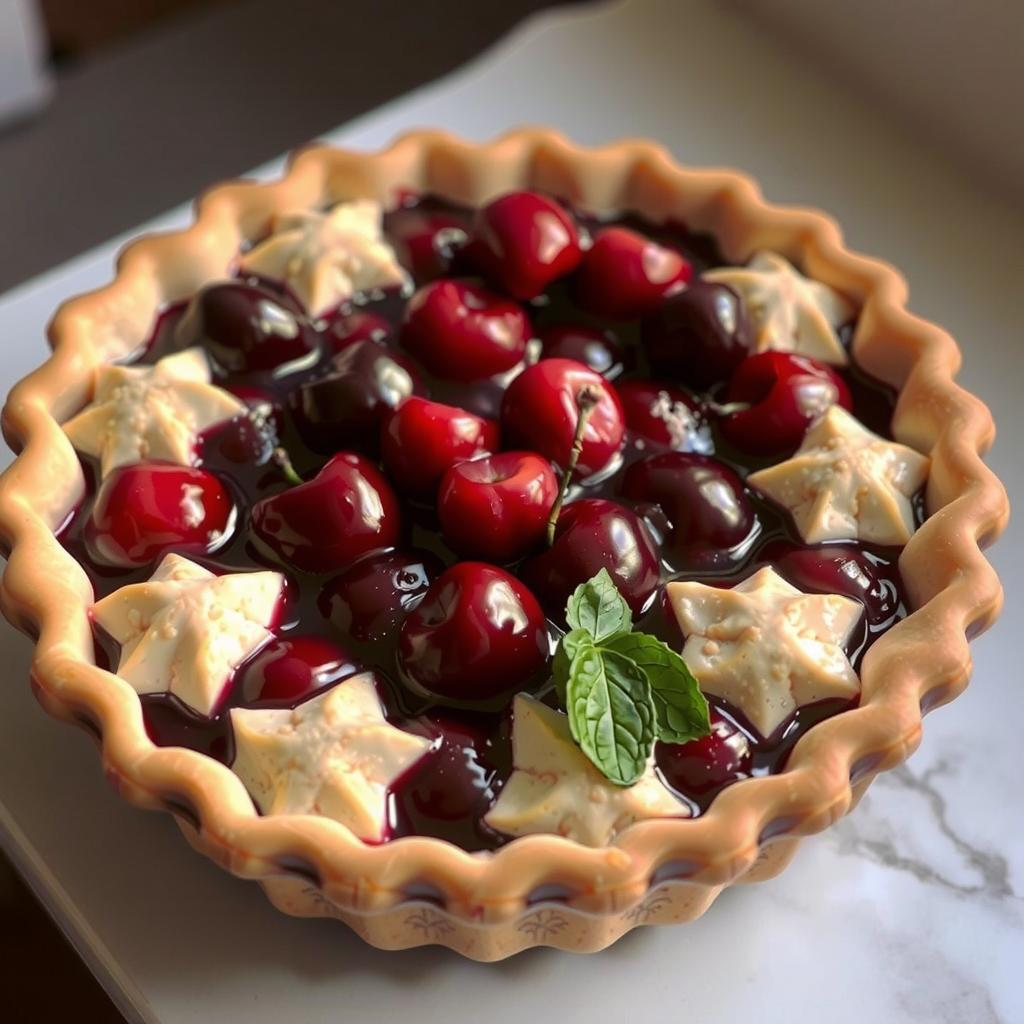pie: (0, 123, 1013, 960)
